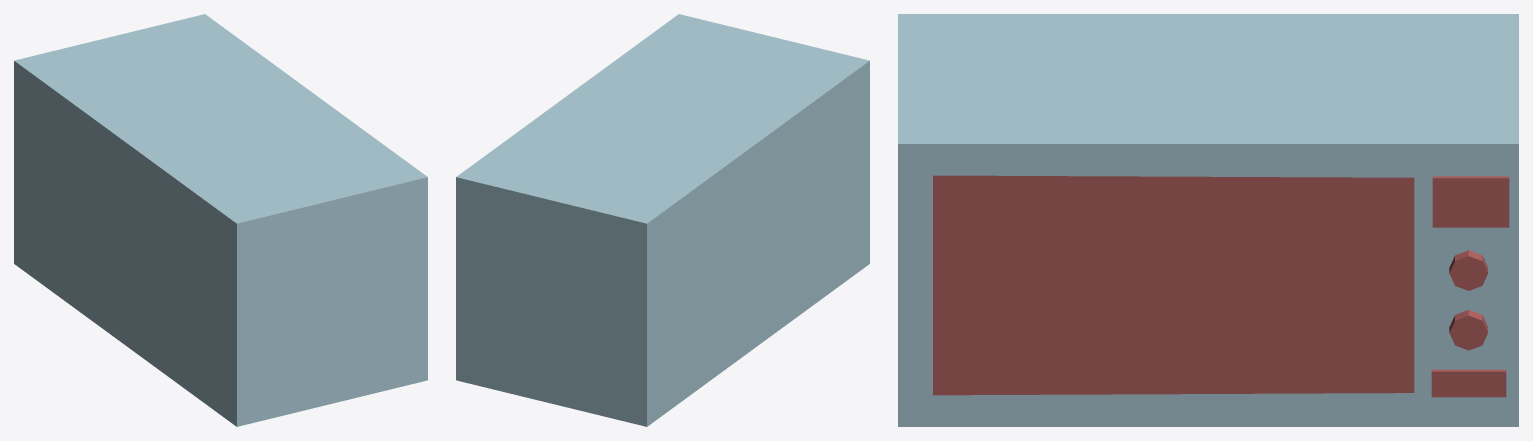
The model's file is Kitchen_Microwave.fbx.
The picture shows the model from 3 angles, left to right: view 1: azimuth 30°, elevation 25°; view 2: azimuth 150°, elevation 25°; view 3: azimuth 270°, elevation 25°; orthographic projection. The views are drawn at different scales.
Parts seen in each view (by area): view 1: Kitchen_Microwave; view 2: Kitchen_Microwave; view 3: Kitchen_Microwave.
Part boxes in pixels (box(x1,y1,x2,y2)): Kitchen_Microwave: box(14, 14, 427, 426); Kitchen_Microwave: box(456, 14, 869, 426); Kitchen_Microwave: box(898, 14, 1518, 426).
Bounding box in the file's own units: 36.8 × 35.79 × 71.13.
